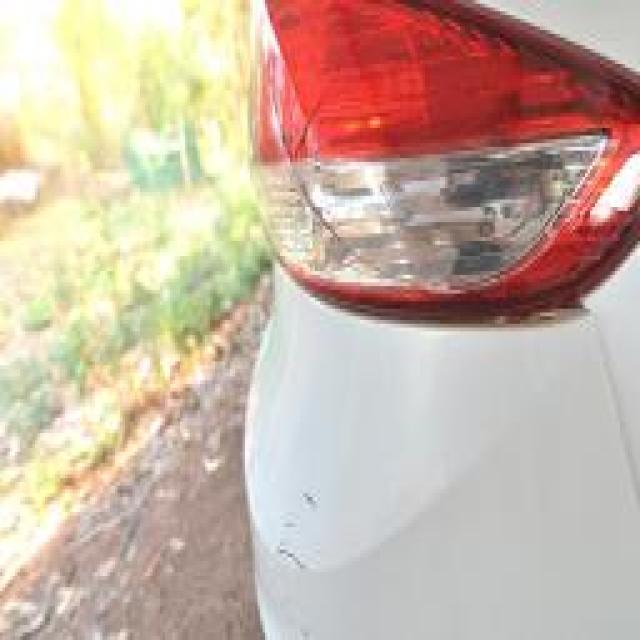Bumper: (245, 448, 392, 636)
